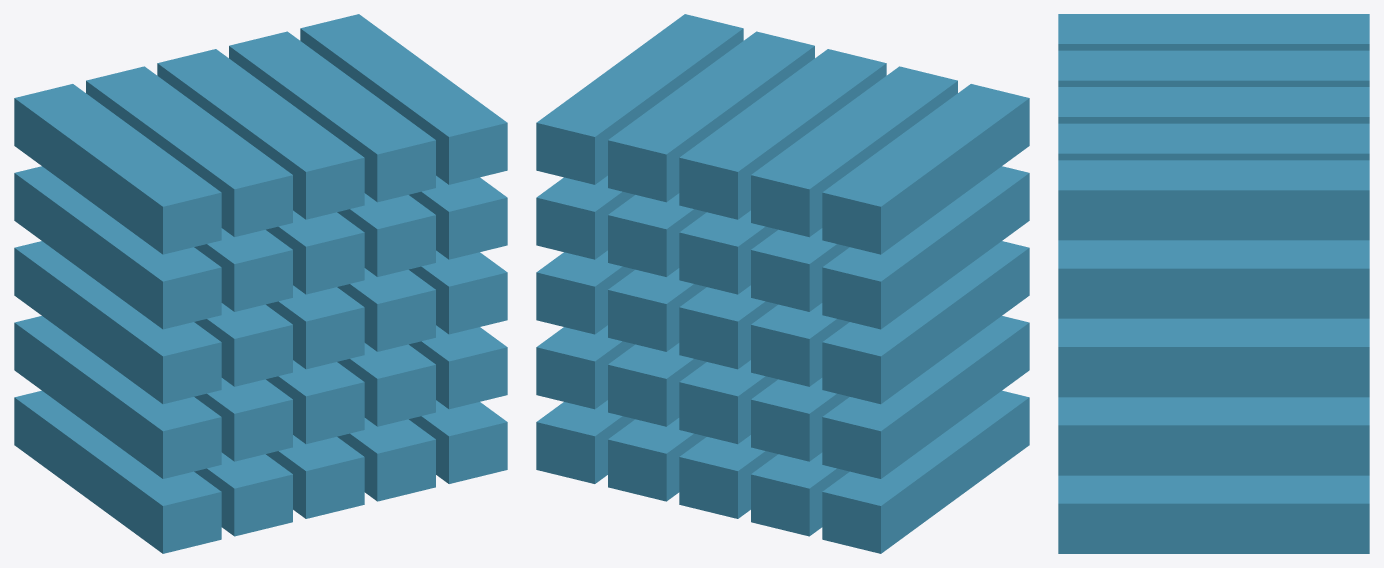
File: FacadeKit_MidriseWindowGrid_LOD0.glb
3 renders of one model, left to right at view 1: azimuth 30°, elevation 25°; view 2: azimuth 150°, elevation 25°; view 3: azimuth 270°, elevation 25°, orthographic. The views are drawn at different scales.
Visible parts, largest first — view 1: FacadeKit_MidriseWindowGrid_LOD0; view 2: FacadeKit_MidriseWindowGrid_LOD0; view 3: FacadeKit_MidriseWindowGrid_LOD0.
Boxes of the visible parts, x1,y1,x2,y2 form: FacadeKit_MidriseWindowGrid_LOD0: [14, 14, 507, 553]; FacadeKit_MidriseWindowGrid_LOD0: [536, 14, 1029, 553]; FacadeKit_MidriseWindowGrid_LOD0: [1058, 14, 1369, 553].
Size of the model in its own units: 0.964 by 0.928 by 0.72.
